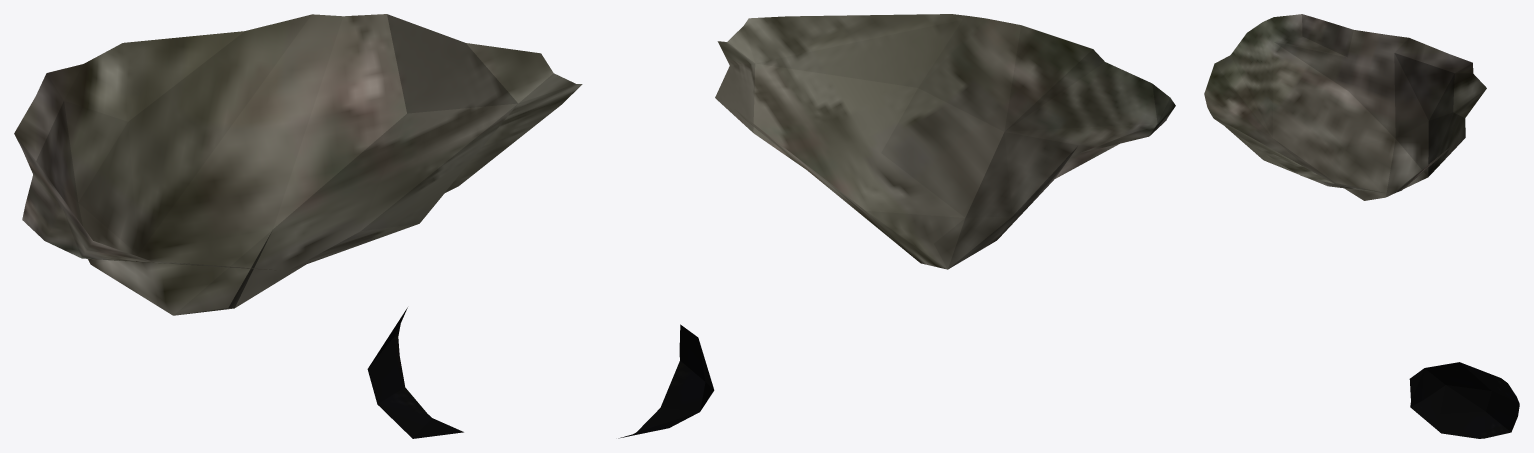
3 renders of one model, left to right at view 1: azimuth 30°, elevation 25°; view 2: azimuth 150°, elevation 25°; view 3: azimuth 270°, elevation 25°, orthographic. The views are drawn at different scales.
Size of the model in its own units: 0.9827 by 0.7453 by 0.81.
Materials: 1 (1 with a texture image).
